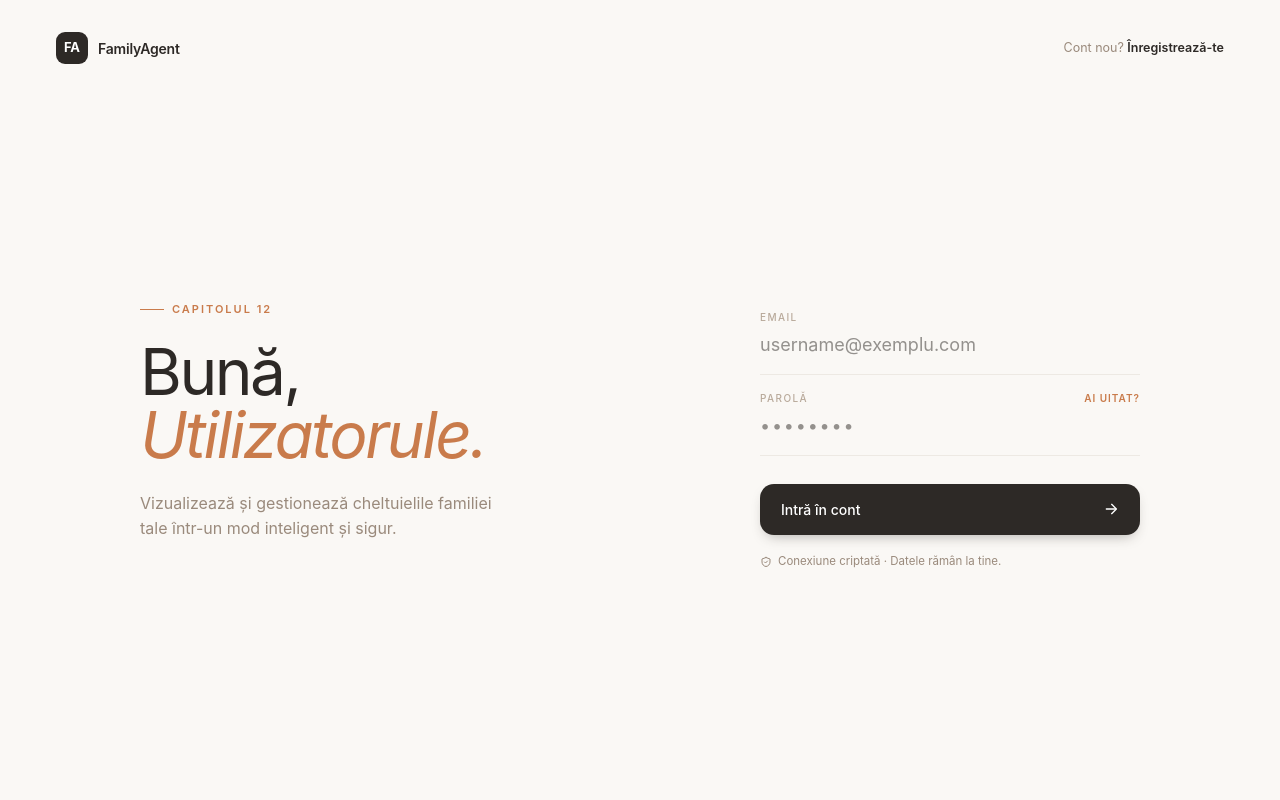
LoginForm – ramuri lipsă (coverage 100%) › E. Afișează mesaj generic când loginStore aruncă o excepție non-ValidationError
Type "test@example.com" into the field with placeholder "username@exemplu.com" at (950, 344), box [760, 331, 1140, 358]
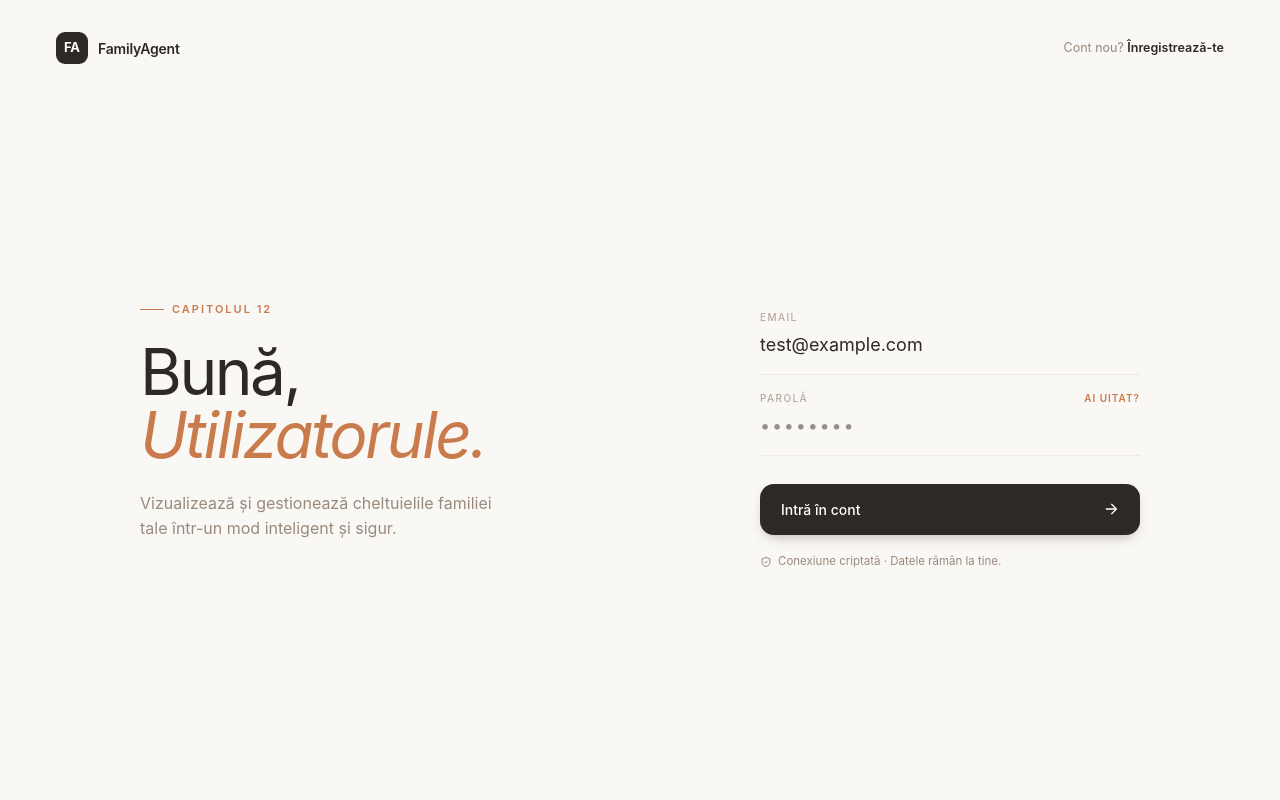
Type "password123" into the password field with placeholder "••••••••" at (950, 425), box [760, 412, 1140, 439]
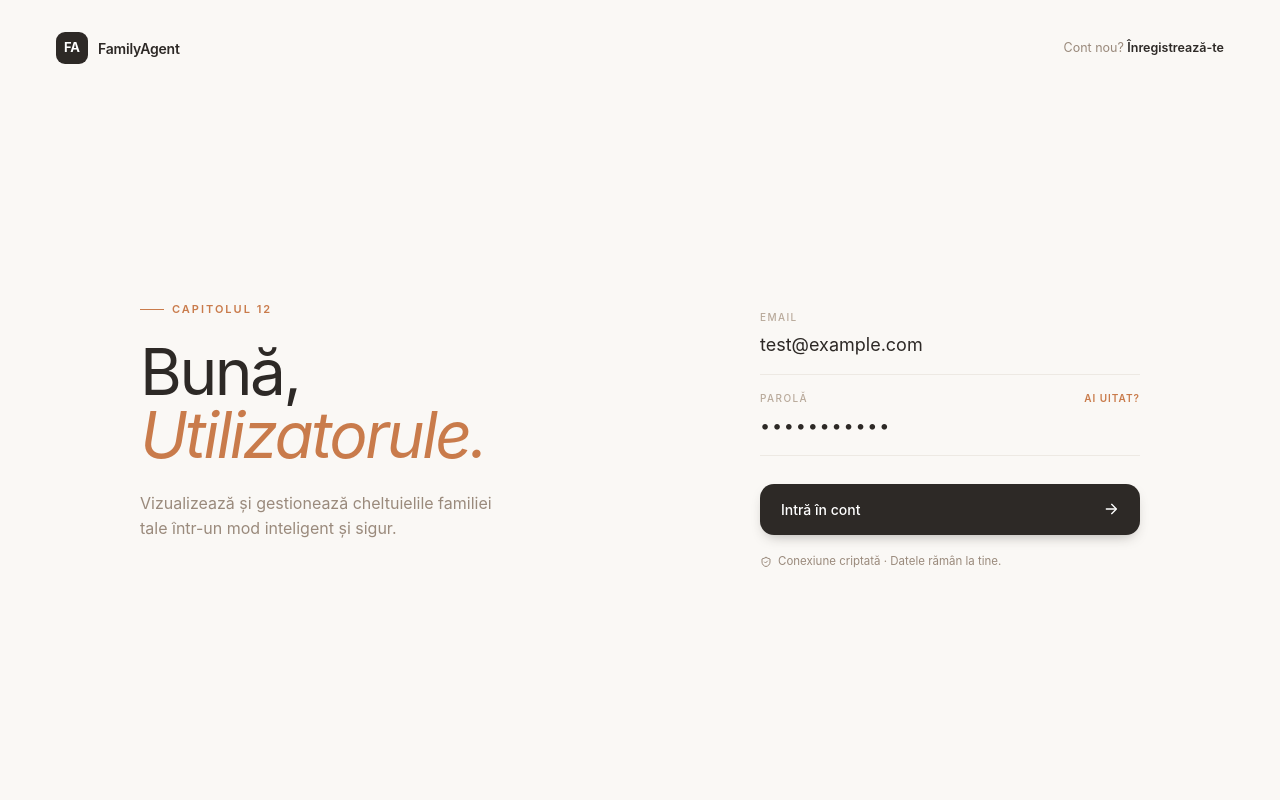
Submit the form with placeholder "username@exemplu.com", box [760, 294, 1140, 570]
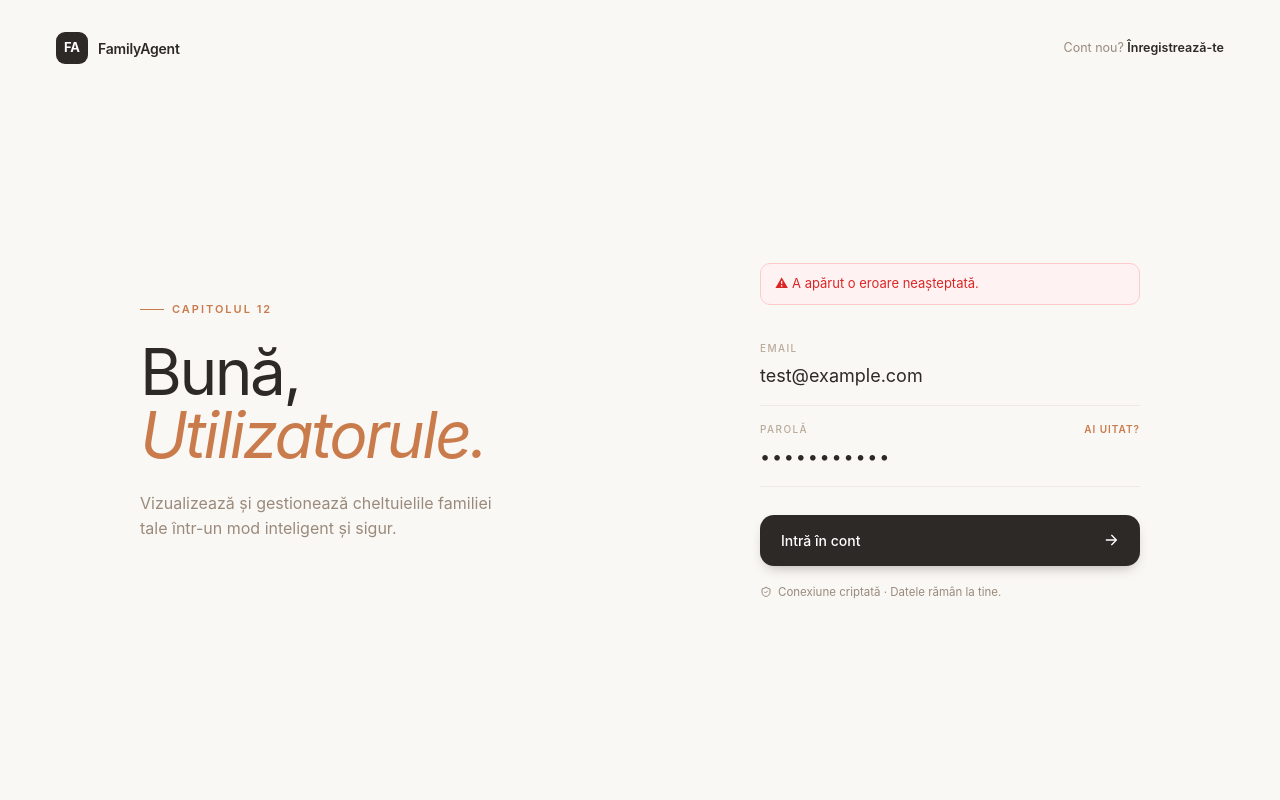
Now the text "⚠ A apărut o eroare neașteptată." is shown, box [760, 263, 1140, 305]
